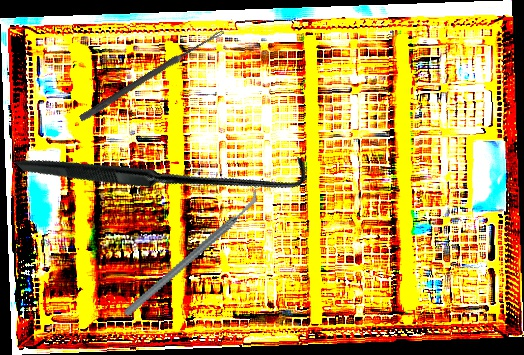Chopper: (99, 185, 285, 319)
Hook Surgical: (13, 16, 314, 317)
Surgical Spoon: (78, 27, 226, 123)
